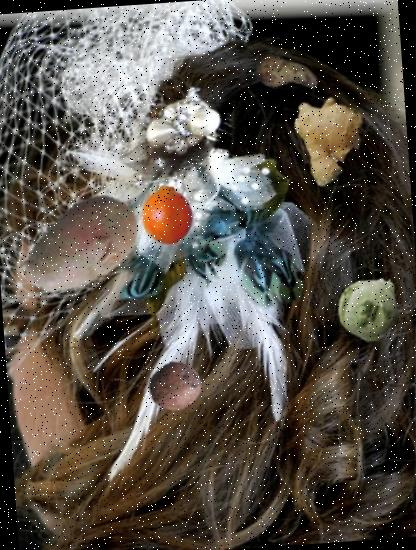Cocos: (146, 356, 204, 415)
Ginger: (276, 92, 374, 190)
Kohlrabi: (332, 270, 406, 344)
Pear: (252, 42, 321, 110)
Potato: (13, 178, 152, 316)
Tangelo: (136, 183, 198, 246)
